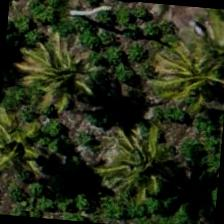Kelapa_Sawit: (97, 123, 195, 221), (3, 27, 101, 124), (0, 88, 66, 184), (160, 22, 223, 118)
